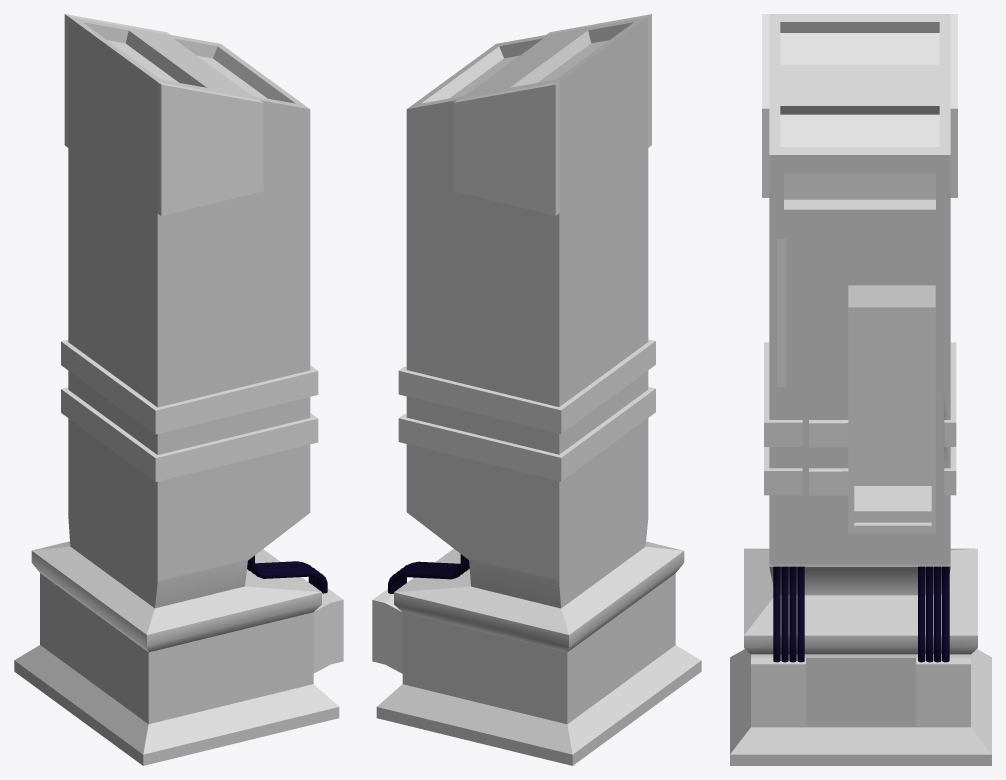
The model's file is Storage.fbx.
3 renders of one model, left to right at view 1: azimuth 30°, elevation 25°; view 2: azimuth 150°, elevation 25°; view 3: azimuth 270°, elevation 25°, orthographic.
Parts seen in each view (by area): view 1: Stockage; view 2: Stockage; view 3: Stockage.
Boxes of the visible parts, x1,y1,x2,y2 form: Stockage: (14,14,343,765); Stockage: (372,14,701,765); Stockage: (730,14,991,765).
Size of the model in its own units: 91.98 by 276 by 97.54.
